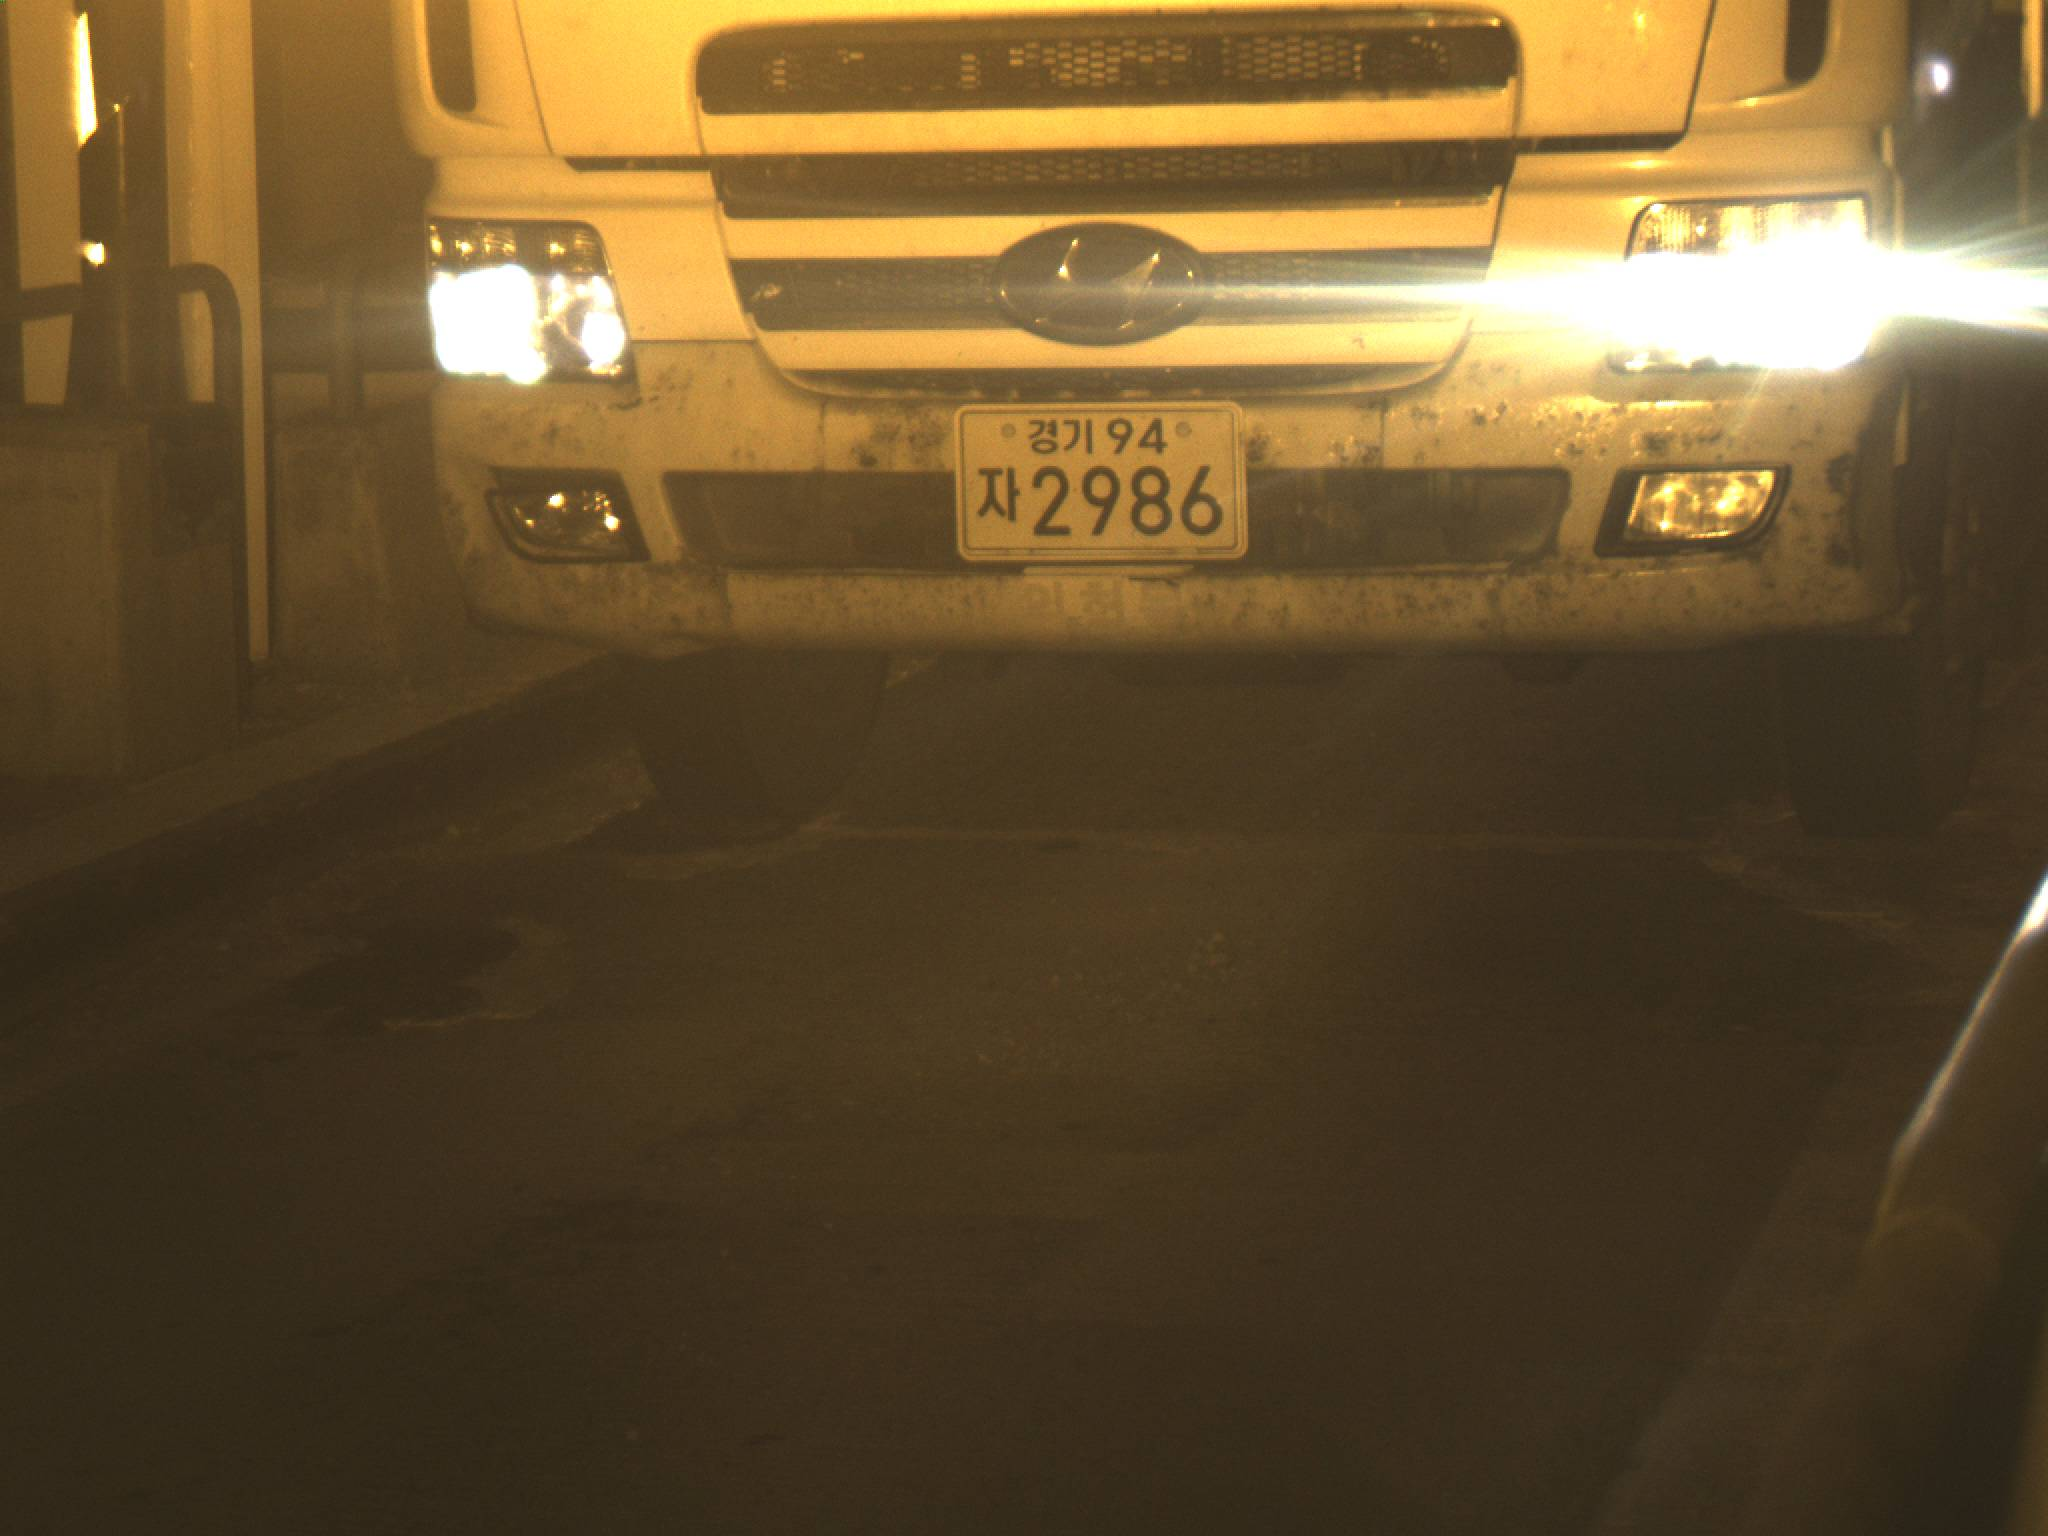car: (389, 1, 2044, 849)
plate: (946, 398, 1246, 560)
